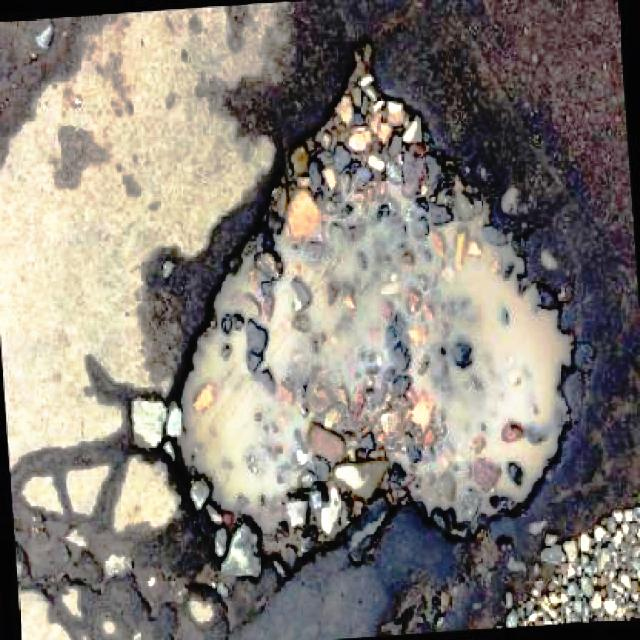pothole: (146, 28, 594, 566)
